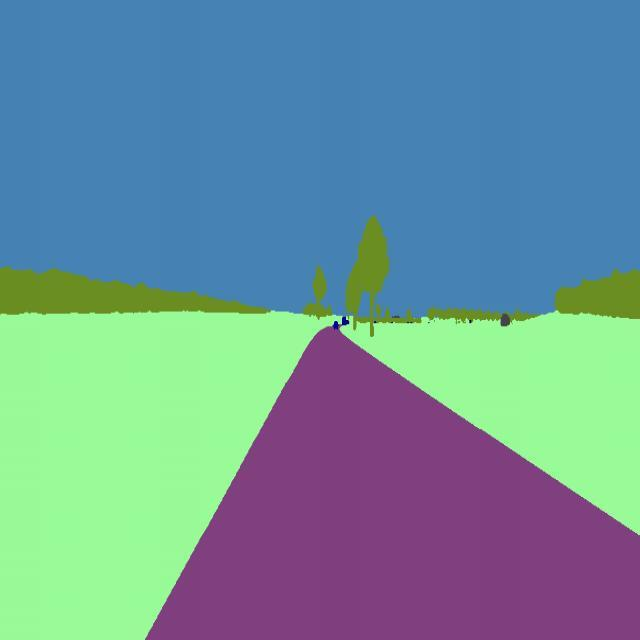safe: (339, 312, 349, 326), (332, 318, 340, 332)
